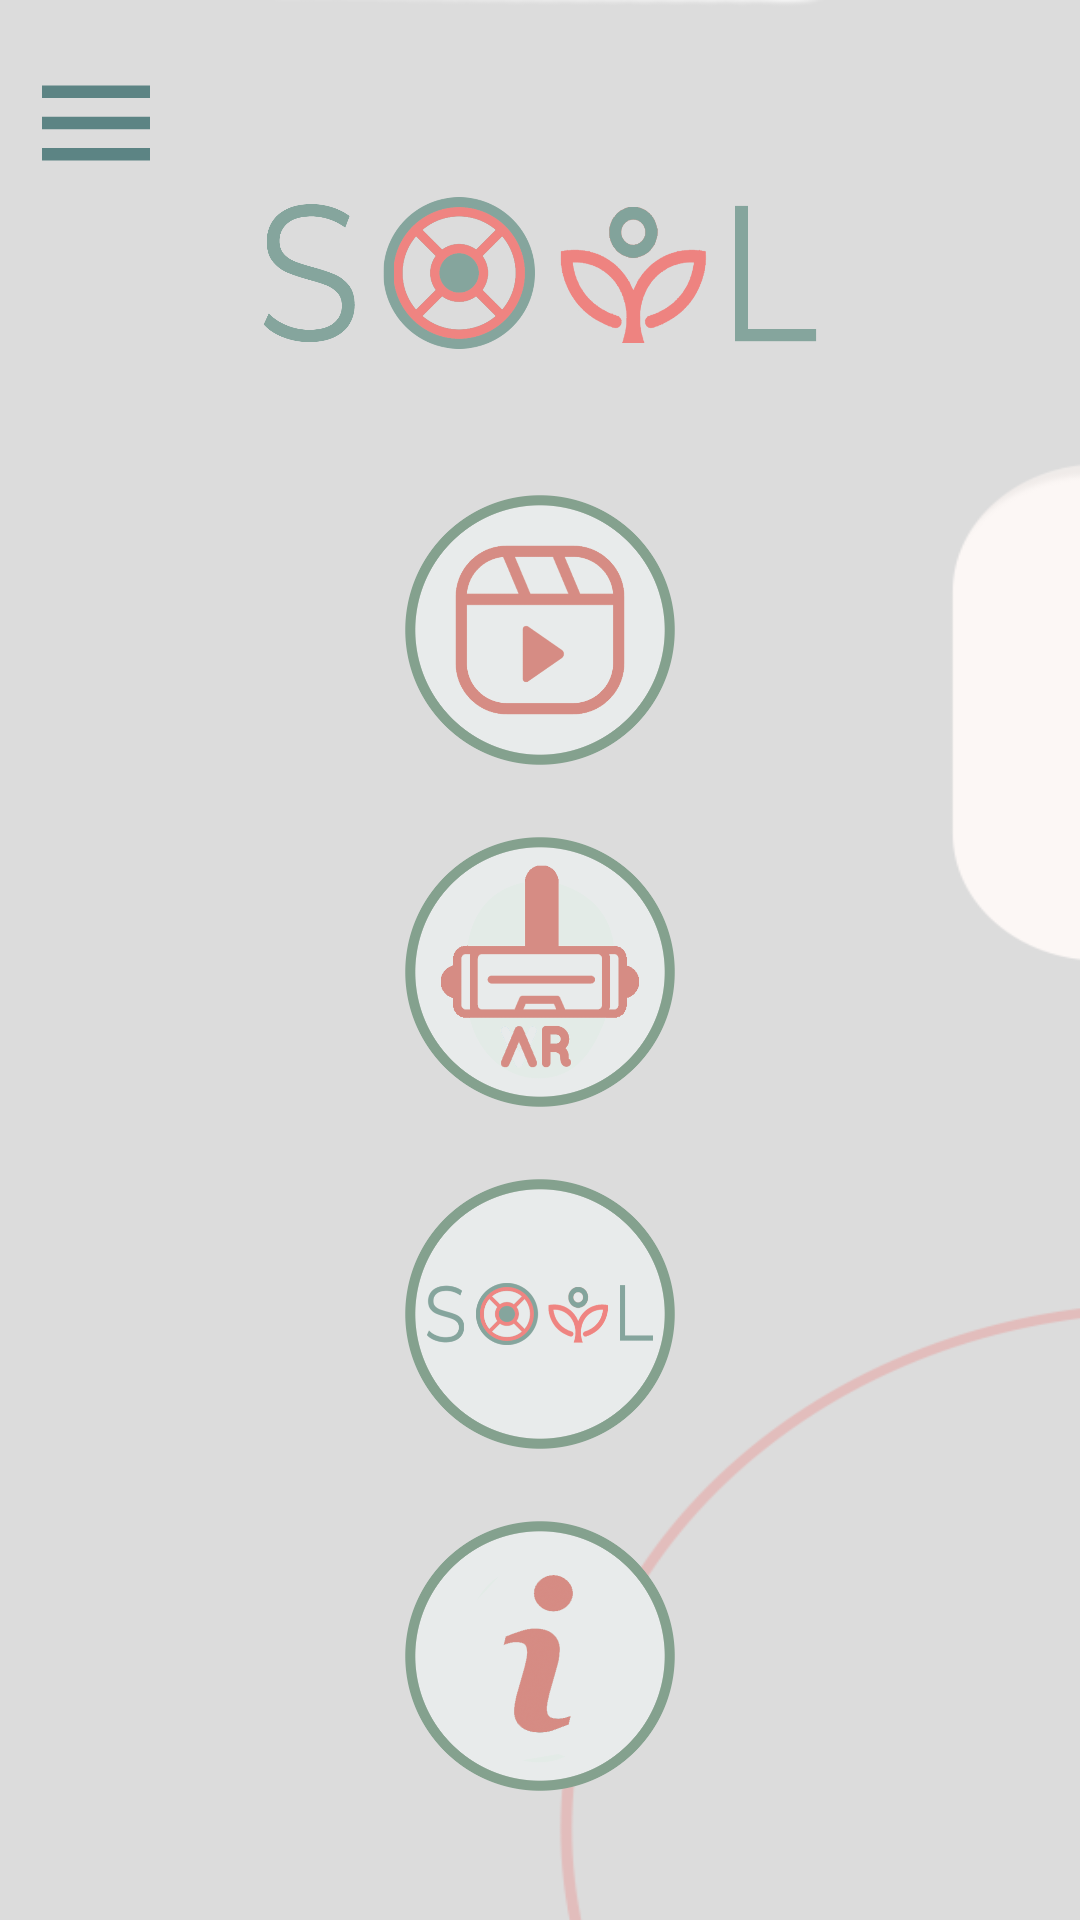

Icons on this 1080x1920 Android screen, each with the point to tap as (x,y):
open menu: (96,123)
open video list: (540,630)
